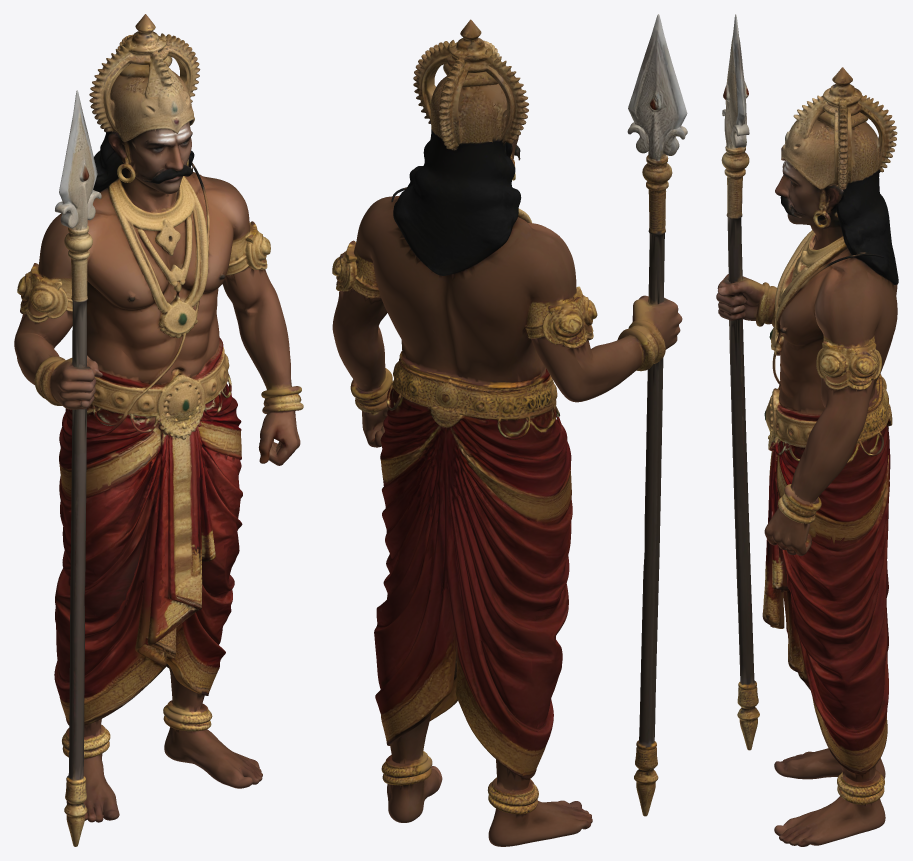
Rendered from senguttuvan_chera.glb.
The picture shows the model from 3 angles, left to right: view 1: azimuth 30°, elevation 25°; view 2: azimuth 150°, elevation 25°; view 3: azimuth 270°, elevation 25°; orthographic projection. The views are drawn at different scales.
Parts seen in each view (by area): view 1: node_0; view 2: node_0; view 3: node_0.
Boxes of the visible parts, x1,y1,x2,y2 form: node_0: (14,14,303,846); node_0: (332,14,687,846); node_0: (716,14,898,846).
Bounding box in the file's own units: 0.4356 × 1.14 × 0.2549.
1 material, 1 textured.
